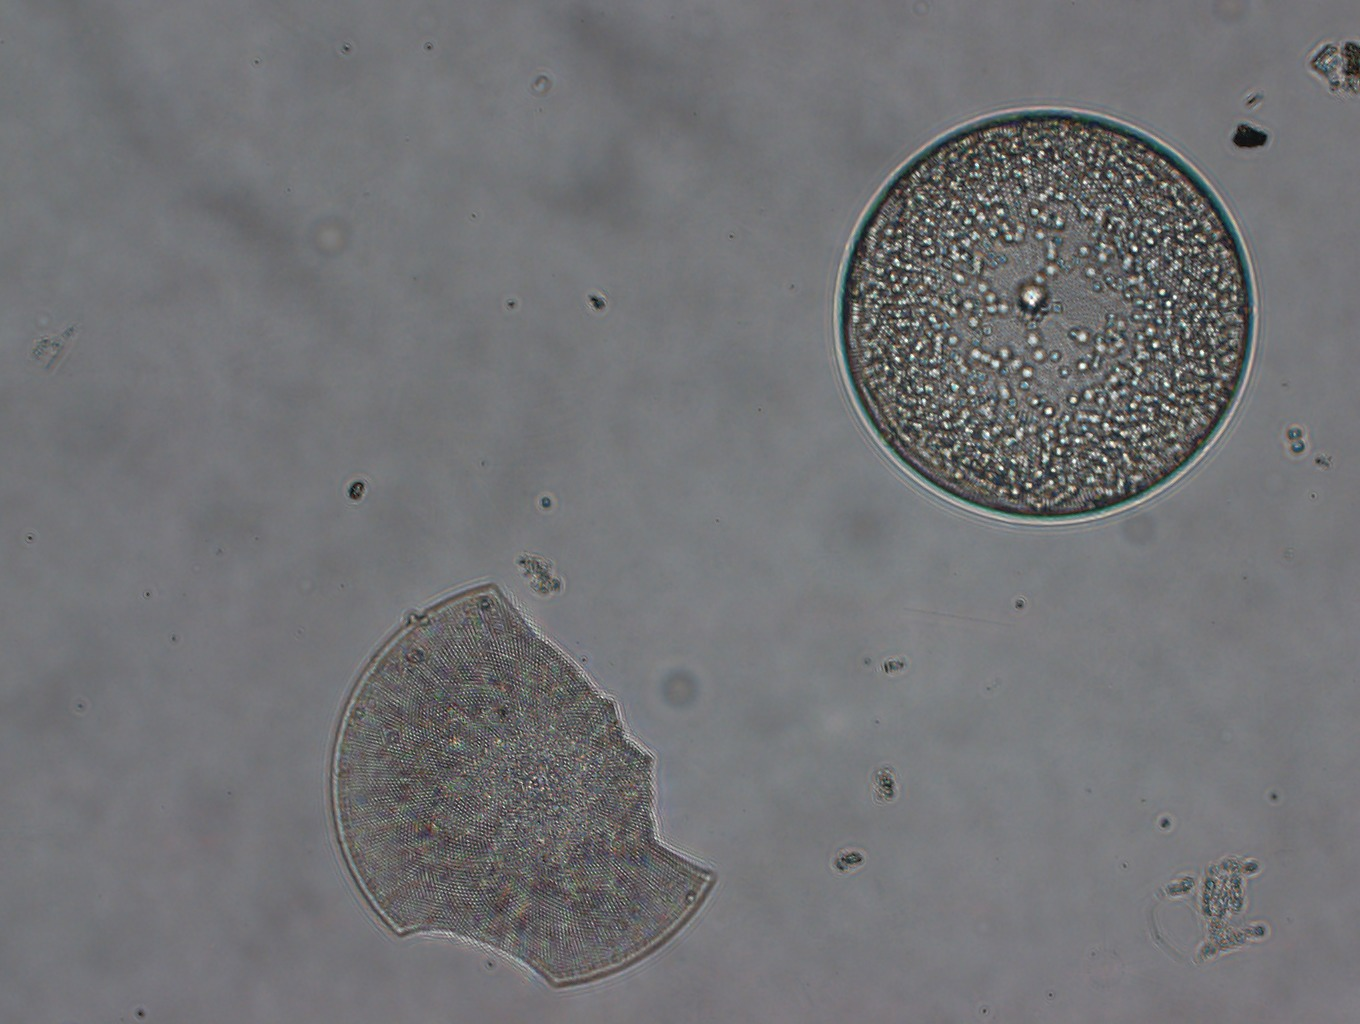coscinodiscus: (829, 106, 1261, 526), (326, 584, 716, 989)
